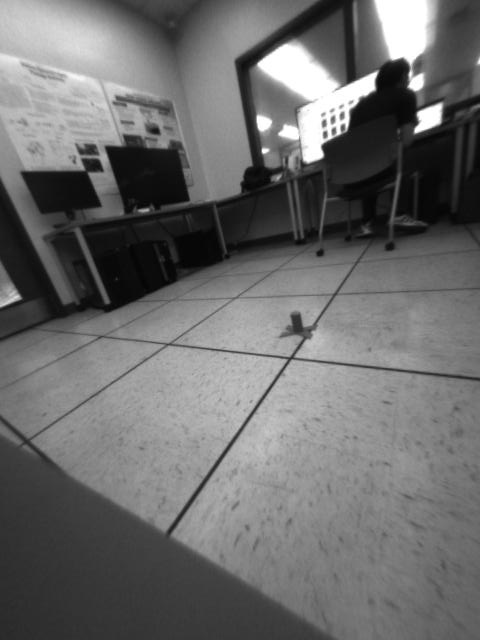X: (278, 309, 320, 342)
